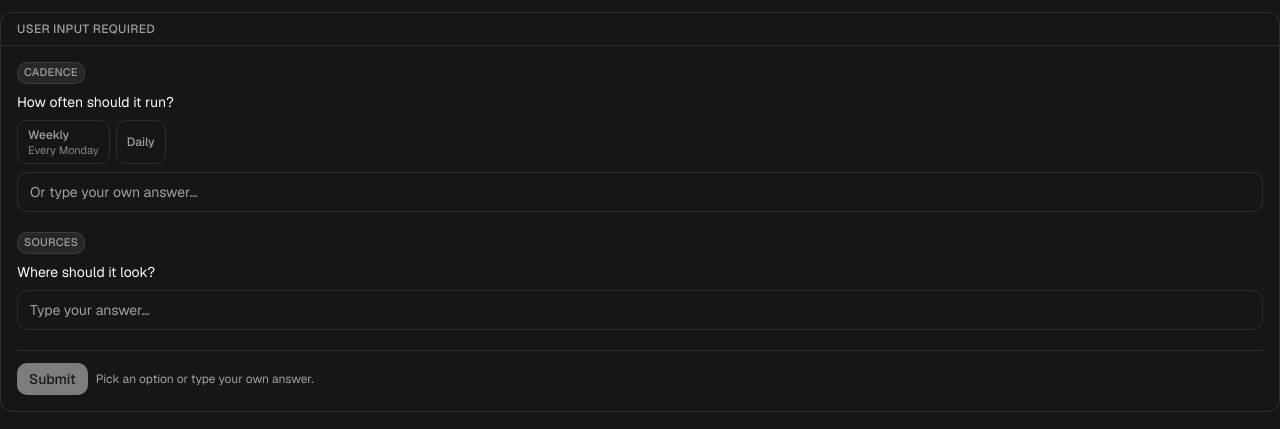
it: RequestInputUI › blocks submit until every question is answered
Check: the button "Submit" is disabled, box [17,363,88,395]
Click the button "Weekly Every Monday" at (63, 142), box [17,120,110,164]
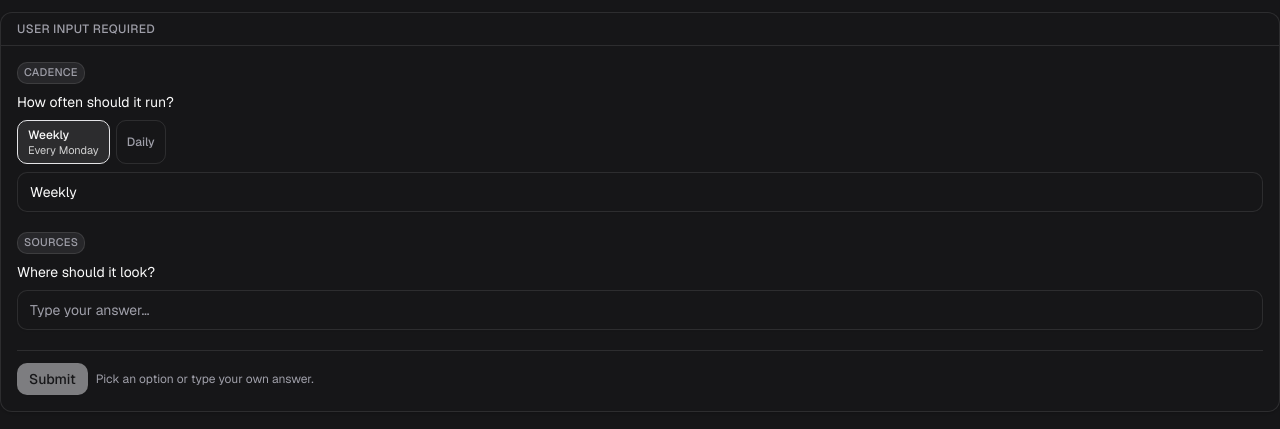
Check: the button "Submit" is disabled, box [17,363,88,395]
Type "LinkedIn" into the field named "Where should it look?" at (640, 310), box [17,290,1263,330]
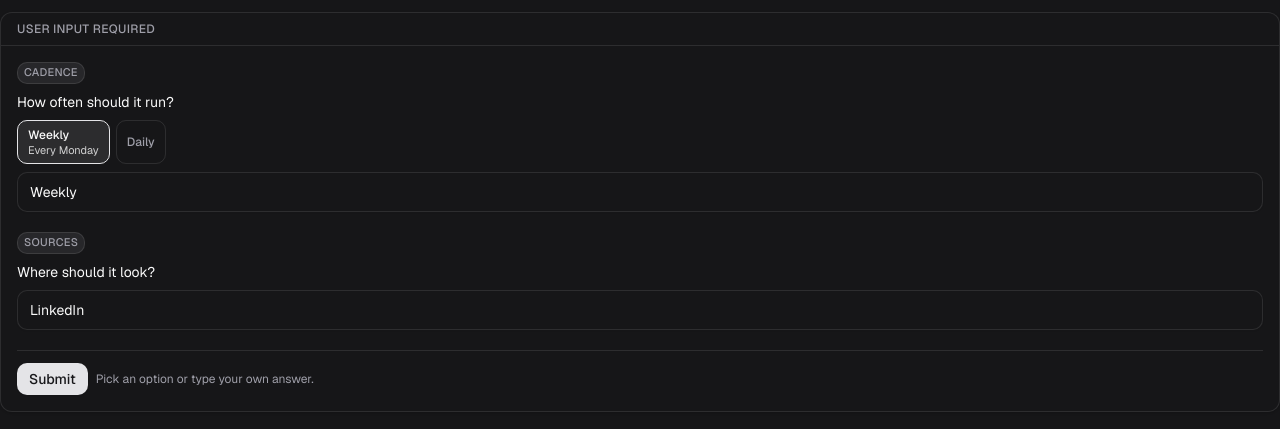
Check: the button "Submit" is enabled, box [17,363,88,395]
